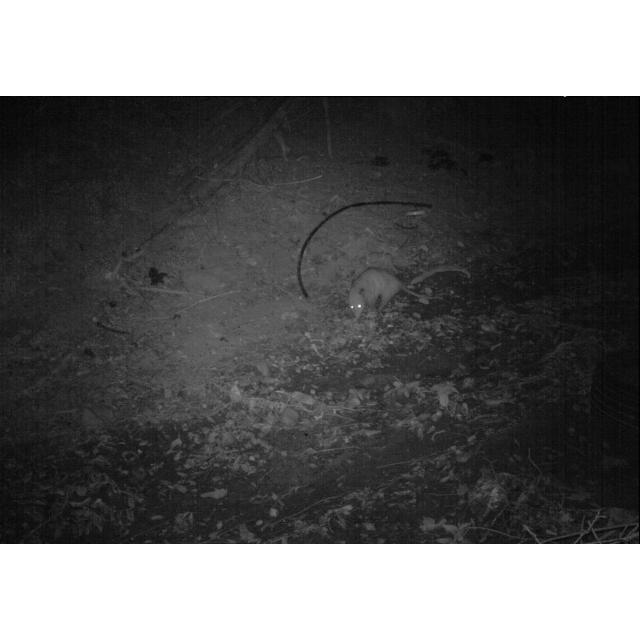animals: (346, 263, 442, 321)
